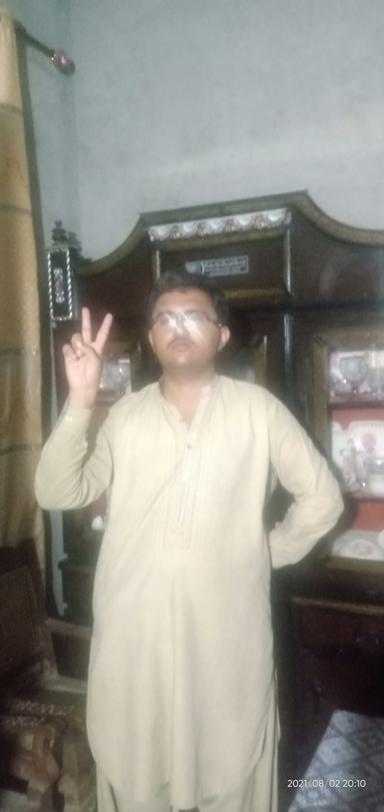peace: (60, 305, 115, 398)
